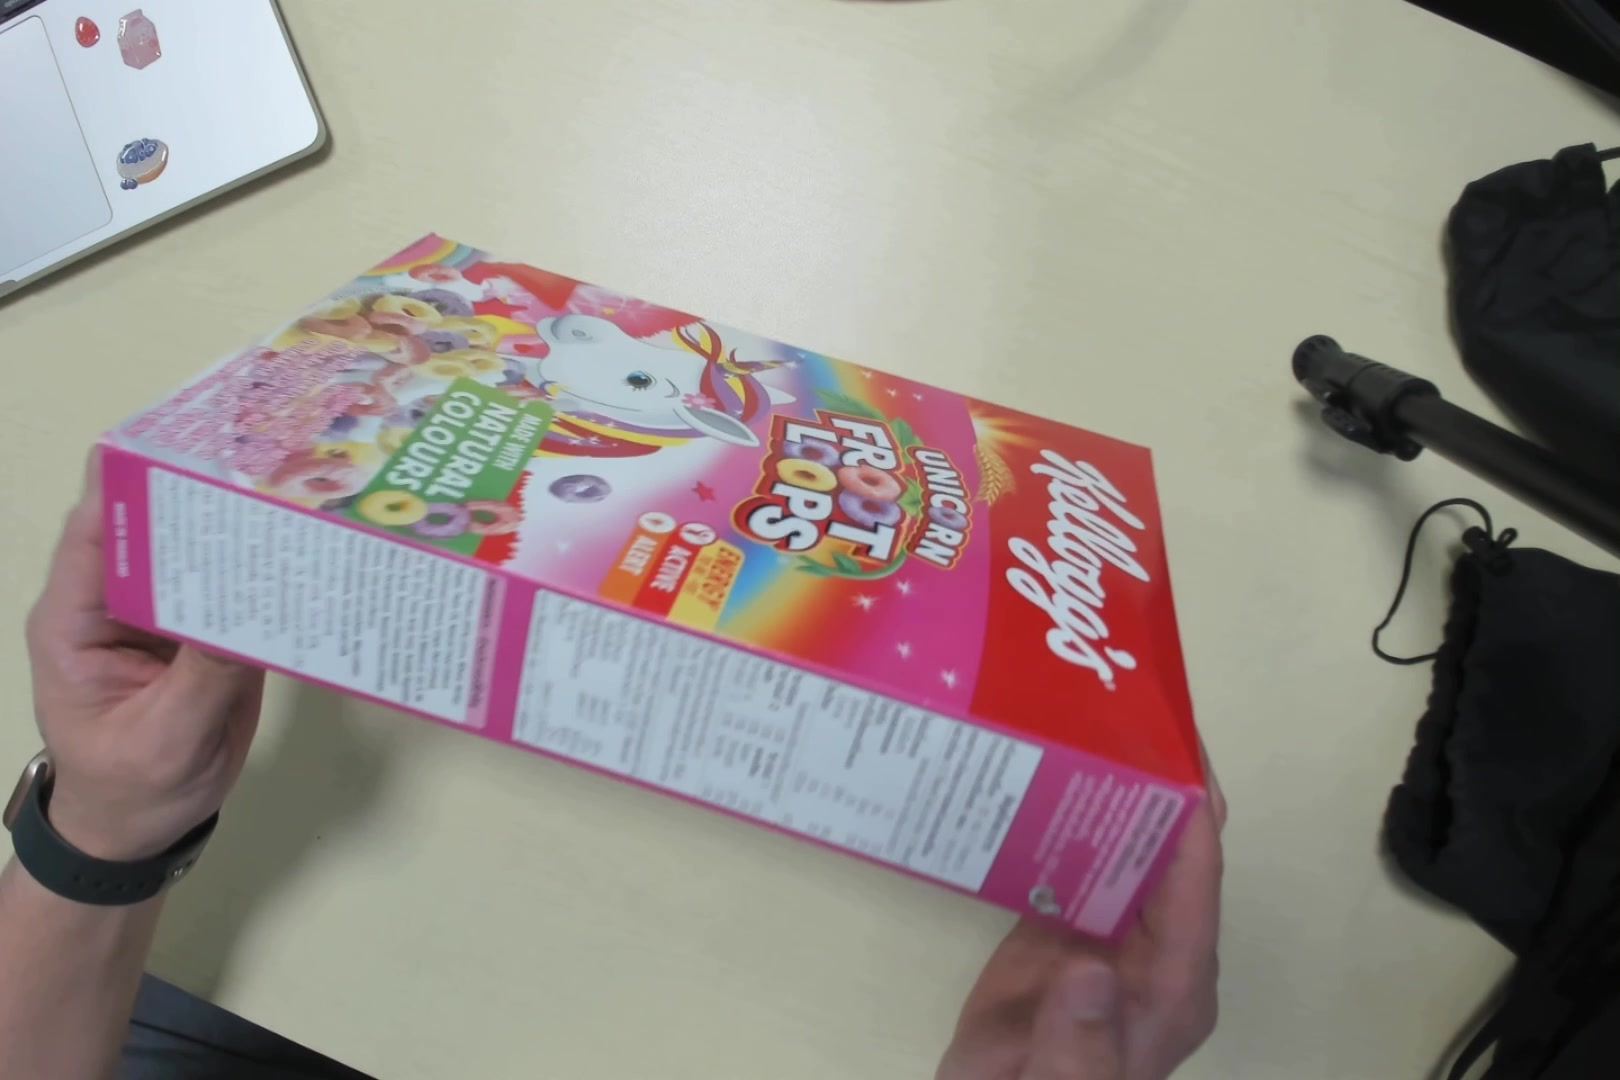BreakfastCereals_200-299g_Halal_NonHealthy: (92, 229, 1187, 939)
